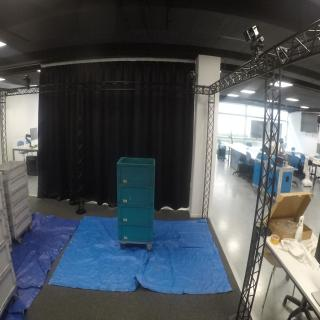BoxB4: (116, 155, 158, 190), (118, 206, 156, 229), (118, 188, 156, 208), (118, 225, 156, 244)
